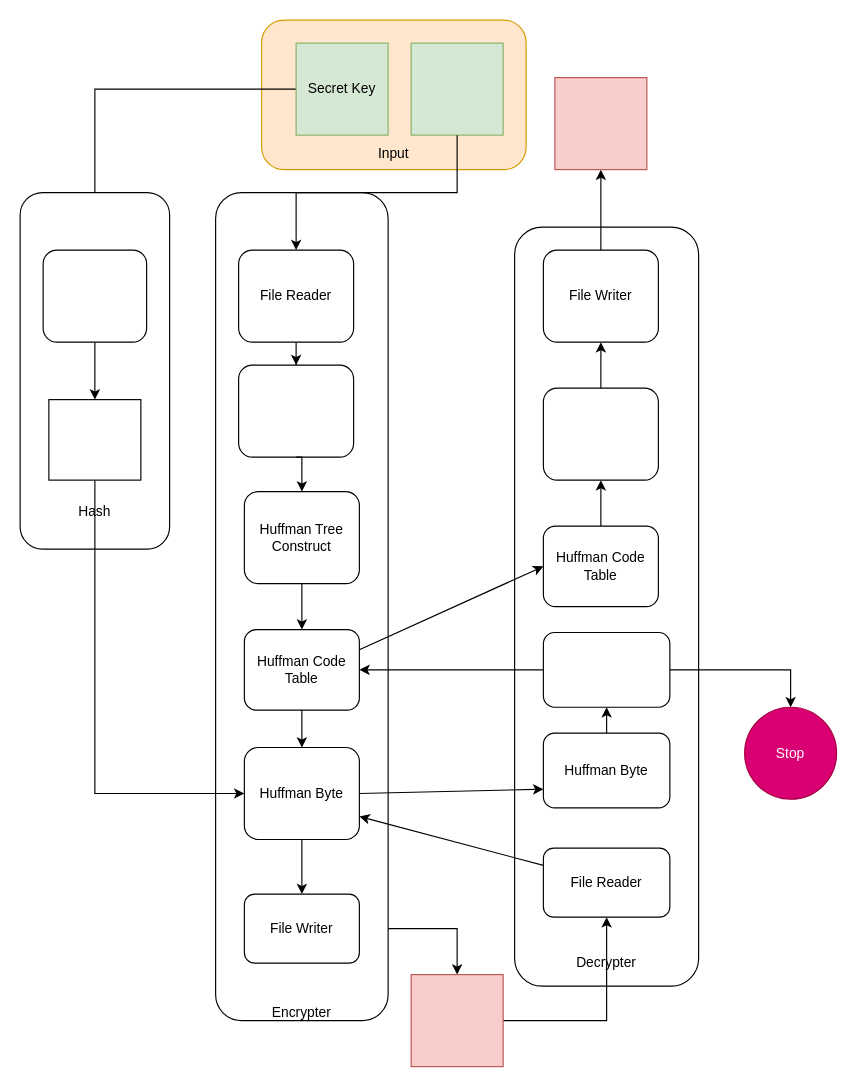
This 857x1087 diagram has some shape labels left out. The shapes that lost their labels are listed below. From the top down, each one's centre as x and y in pixels, then its label:
the point at 456,88: Source File
the point at 600,123: Decoded File
the point at 94,295: HashFunction
the point at 295,410: Byte Parser
the point at 94,439: HashKey
the point at 600,433: Original Byte
the point at 606,669: Hash Validation
the point at 456,1020: Encrypted File
